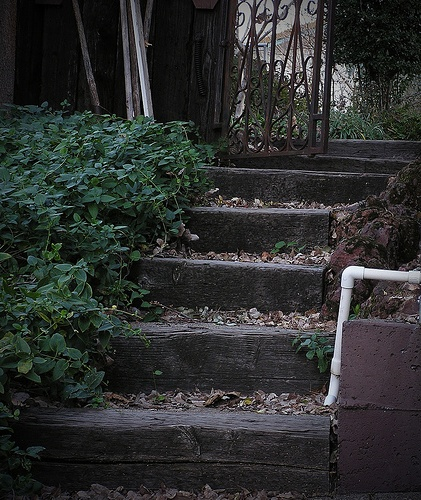stairs_up: (112, 195, 346, 490)
